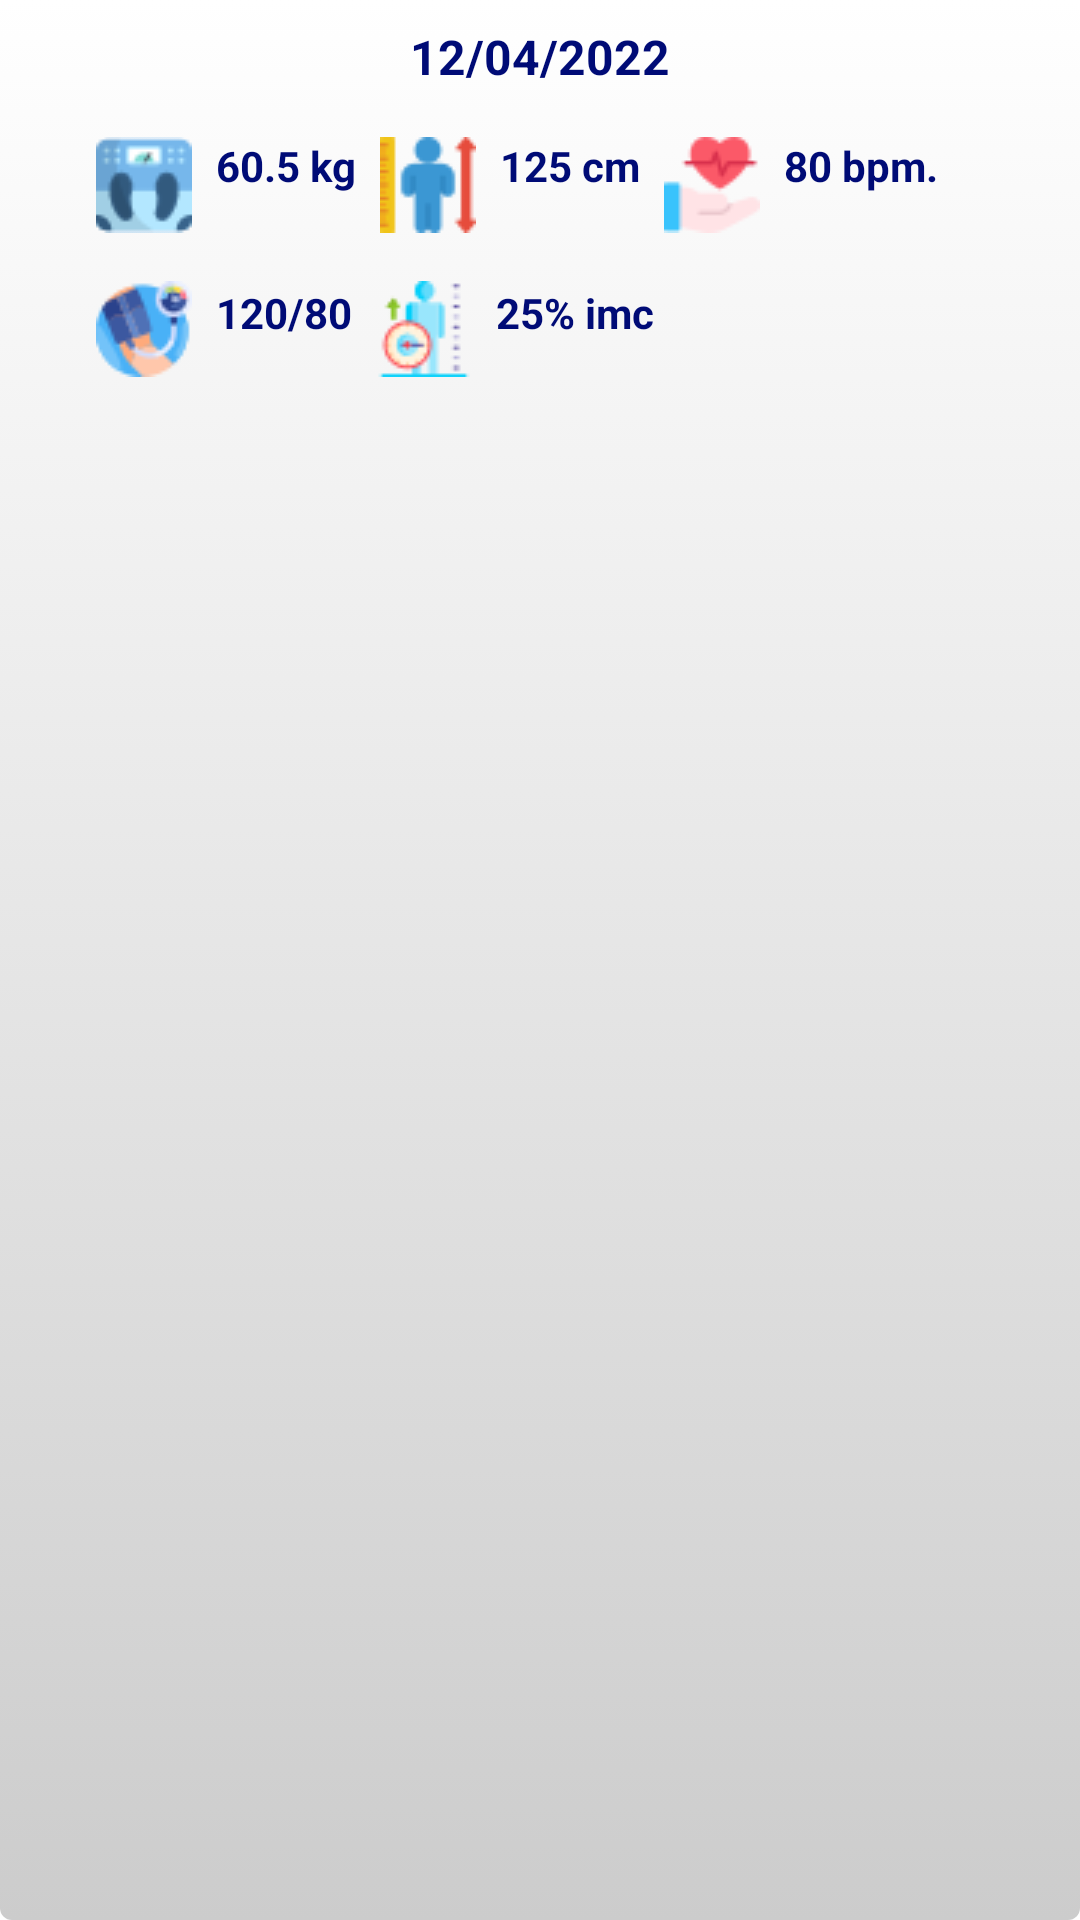

Locate icon controls on the screen. Image size 1080w x 1920h, boxes as (x1, y1, x2, y2).
altura: (380, 137, 476, 233)
peso corporal: (96, 137, 192, 233)
presion arterial: (96, 281, 190, 377)
ritmo cardiaco: (664, 137, 758, 233)
